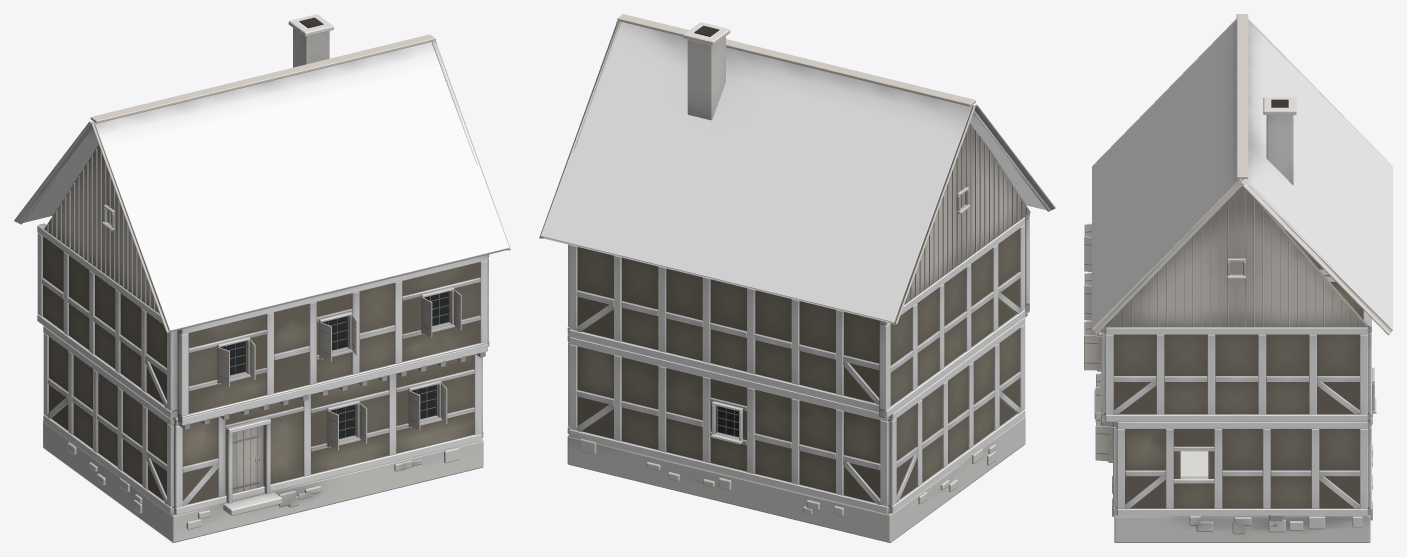
The model's file is house_b.glb.
3 renders of one model, left to right at view 1: azimuth 30°, elevation 25°; view 2: azimuth 150°, elevation 25°; view 3: azimuth 270°, elevation 25°, orthographic. The views are drawn at different scales.
Visible parts, largest first — view 1: back0_brace; view 2: back0_brace; view 3: back0_brace.
Boxes of the visible parts, x1,y1,x2,y2 form: back0_brace: (14,14,510,542); back0_brace: (539,14,1055,542); back0_brace: (1084,14,1392,542).
Bounding box in the file's own units: 10.18 × 11.4 × 8.01.
